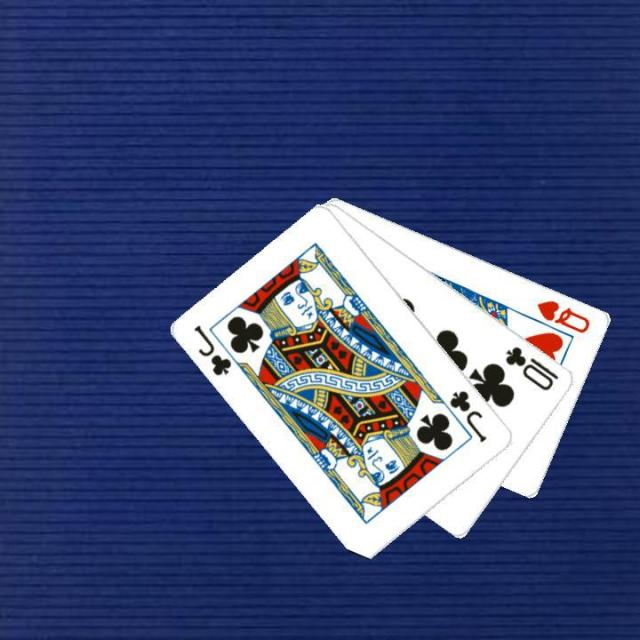10C: (501, 341, 561, 393)
JC: (190, 321, 235, 378), (445, 386, 489, 444)
QH: (533, 296, 593, 335)
